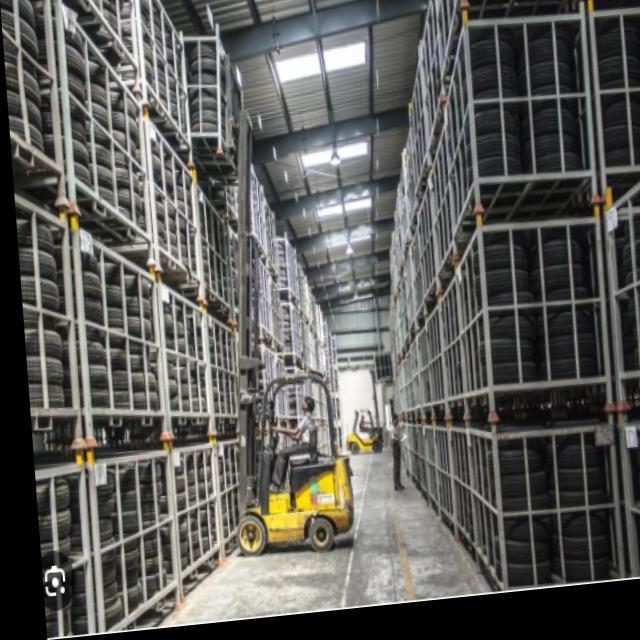boots: (263, 479, 284, 496), (393, 481, 406, 494)
